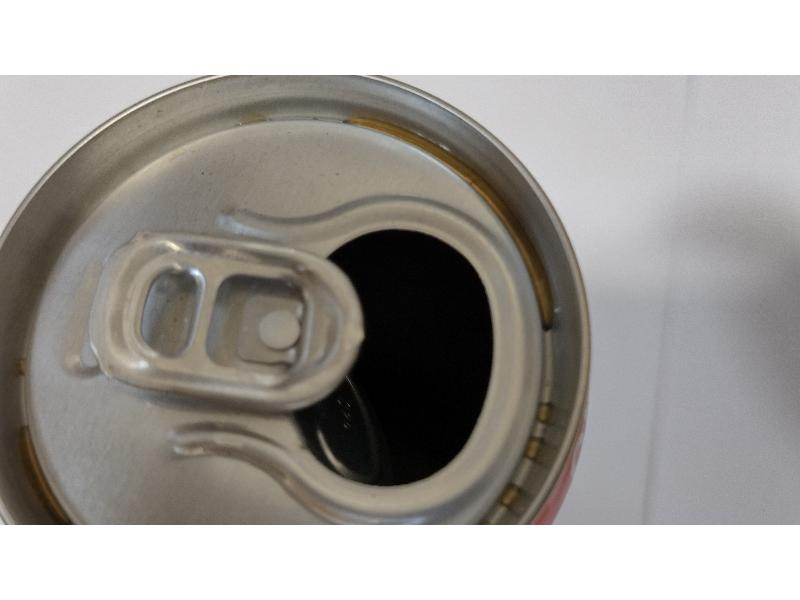can: (0, 77, 606, 522)
